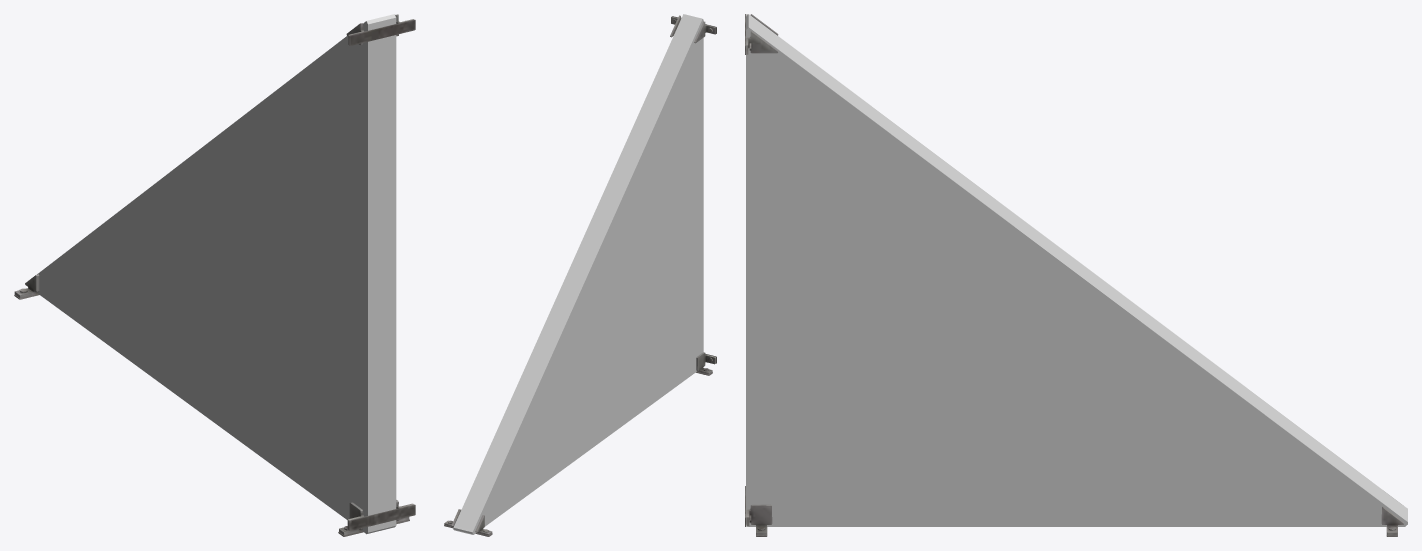
Rendered from SM_WallTryangle_Glass_bbdc12.glb.
3 views of the same model, side by side, from view 1: azimuth 30°, elevation 25°; view 2: azimuth 150°, elevation 25°; view 3: azimuth 270°, elevation 25° (orthographic). The views are drawn at different scales.
Bounding box in the file's own units: 0.45 × 3.33 × 4.
2 materials, 1 textured.
